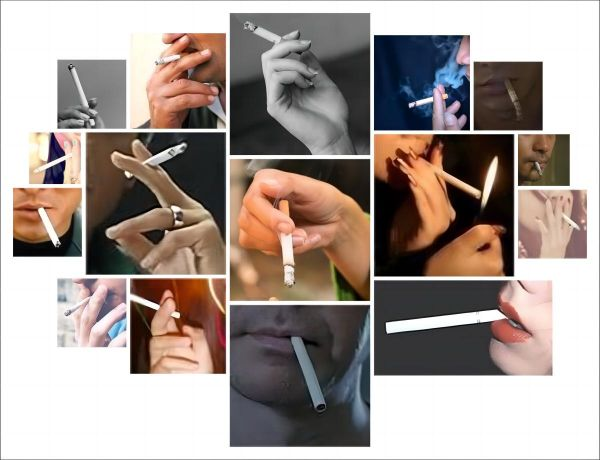smoke: (385, 308, 516, 336), (290, 335, 330, 413), (419, 154, 483, 202), (125, 142, 192, 180), (279, 201, 299, 289), (130, 292, 183, 319), (67, 62, 95, 112), (502, 74, 526, 125), (243, 20, 285, 46), (38, 208, 63, 249), (33, 154, 72, 176), (409, 93, 451, 109), (66, 297, 93, 318), (561, 212, 584, 234), (154, 52, 185, 66), (533, 158, 546, 180)
